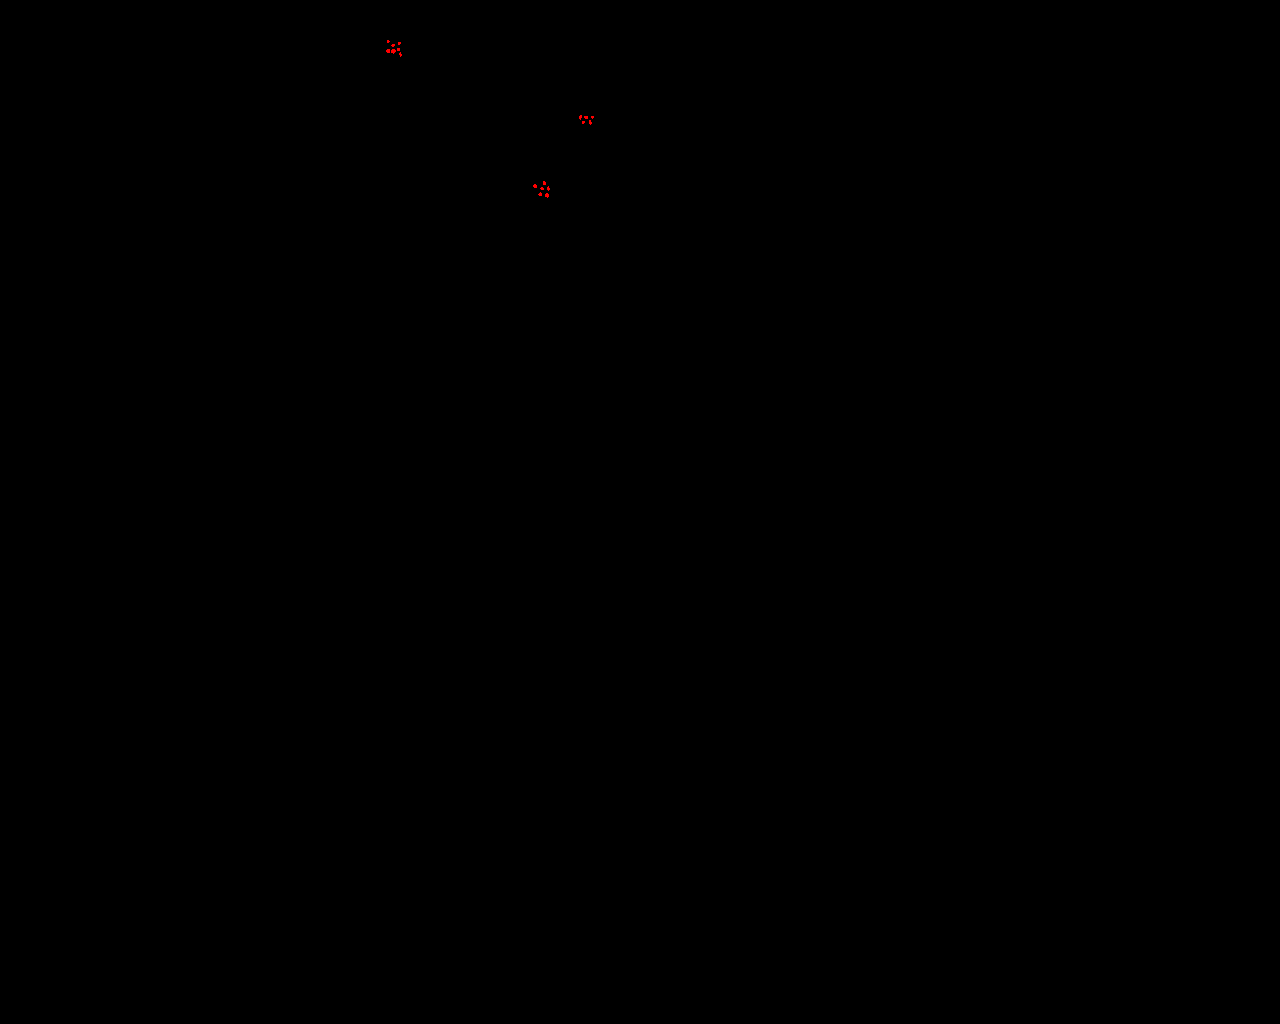Target: (391, 49, 396, 54), (386, 49, 390, 53), (533, 184, 537, 188), (538, 192, 542, 196), (399, 52, 402, 57), (579, 115, 582, 120), (589, 120, 592, 125), (546, 186, 550, 191), (391, 44, 395, 47), (584, 116, 588, 119), (543, 181, 546, 185), (540, 187, 544, 190), (545, 193, 549, 197), (387, 40, 390, 43), (398, 42, 401, 45), (397, 48, 400, 51), (582, 121, 585, 124), (591, 116, 594, 119)
